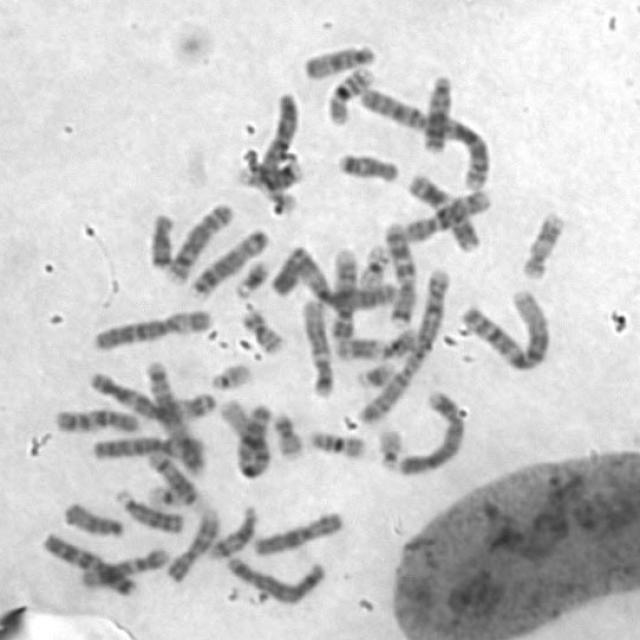A1: (453, 281, 554, 373), (213, 390, 275, 480)
A2: (352, 259, 452, 425), (352, 78, 491, 192)
A3: (80, 362, 218, 423), (284, 240, 399, 311)
B4: (390, 381, 468, 476), (218, 547, 328, 607)
B5: (138, 352, 208, 478), (241, 84, 301, 218)
C10: (408, 194, 504, 242), (47, 400, 144, 435)
C11: (400, 167, 482, 253), (328, 321, 419, 362)
C12: (72, 539, 172, 591), (295, 290, 337, 399)
C6: (85, 300, 216, 352), (87, 431, 207, 468)
C7: (36, 525, 140, 598), (377, 214, 419, 328)
C8: (158, 194, 236, 286), (184, 220, 272, 299)
C9: (159, 500, 222, 584), (324, 241, 362, 342)
D13: (108, 480, 186, 534), (416, 67, 454, 153)
D14: (139, 443, 202, 508), (200, 498, 261, 560)
D15: (296, 37, 378, 81), (57, 494, 126, 539)
E16: (320, 57, 375, 126), (300, 422, 368, 461)
E17: (515, 202, 567, 281), (226, 156, 307, 192)
E18: (331, 144, 402, 184), (141, 204, 177, 271)
F19: (352, 238, 392, 288), (148, 482, 194, 508)
F20: (234, 298, 287, 355), (266, 404, 304, 461)
G21: (226, 252, 272, 298), (349, 352, 398, 389)
G22: (203, 354, 255, 391), (370, 421, 406, 472)
X: (245, 502, 347, 557)
Y: (263, 240, 307, 298)
